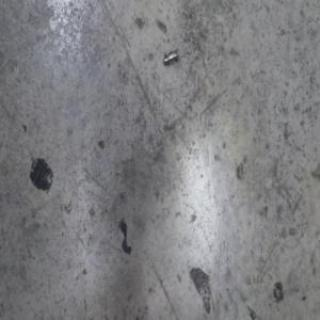Bolttrack_idkeyframe: (162, 46, 179, 66)
